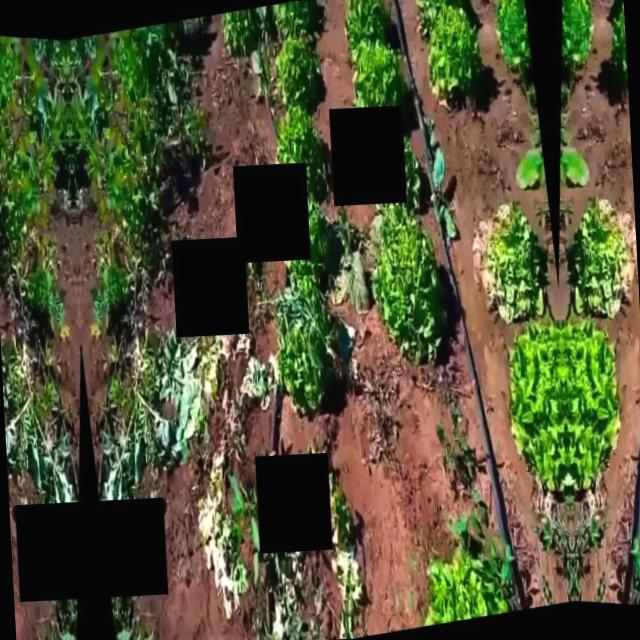healthy: (366, 210, 449, 364), (504, 316, 570, 504), (560, 313, 626, 501), (468, 199, 551, 327), (563, 194, 640, 322), (418, 536, 514, 632), (275, 284, 338, 420), (423, 5, 484, 106), (280, 201, 342, 284), (275, 100, 323, 198), (370, 132, 424, 216), (348, 37, 408, 112), (271, 35, 321, 111), (494, 0, 533, 70), (556, 0, 595, 67), (222, 2, 264, 58), (341, 0, 393, 44), (269, 0, 321, 40), (608, 0, 628, 96), (414, 0, 469, 28), (634, 529, 640, 621), (617, 0, 624, 18)
